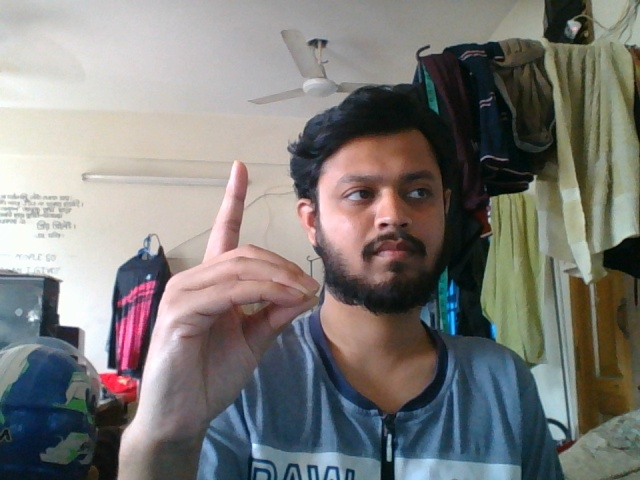dha: (133, 156, 328, 422)
